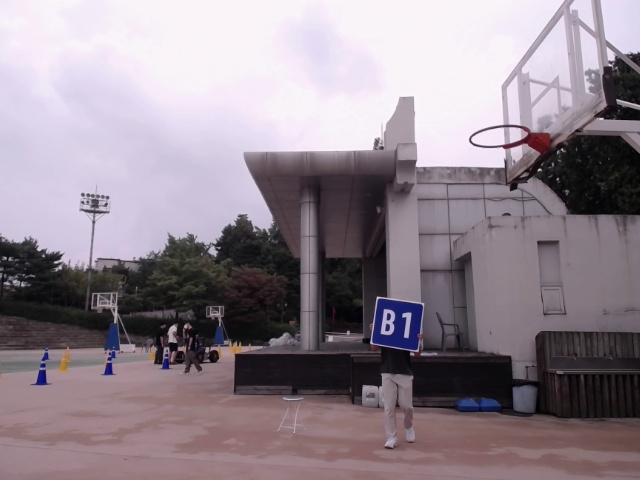delivery_b1: (371, 296, 424, 352)
